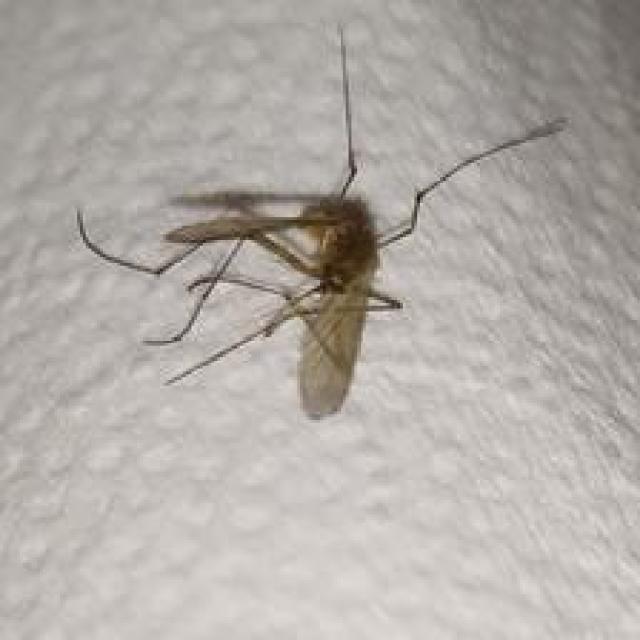Culex: (74, 23, 569, 423)
